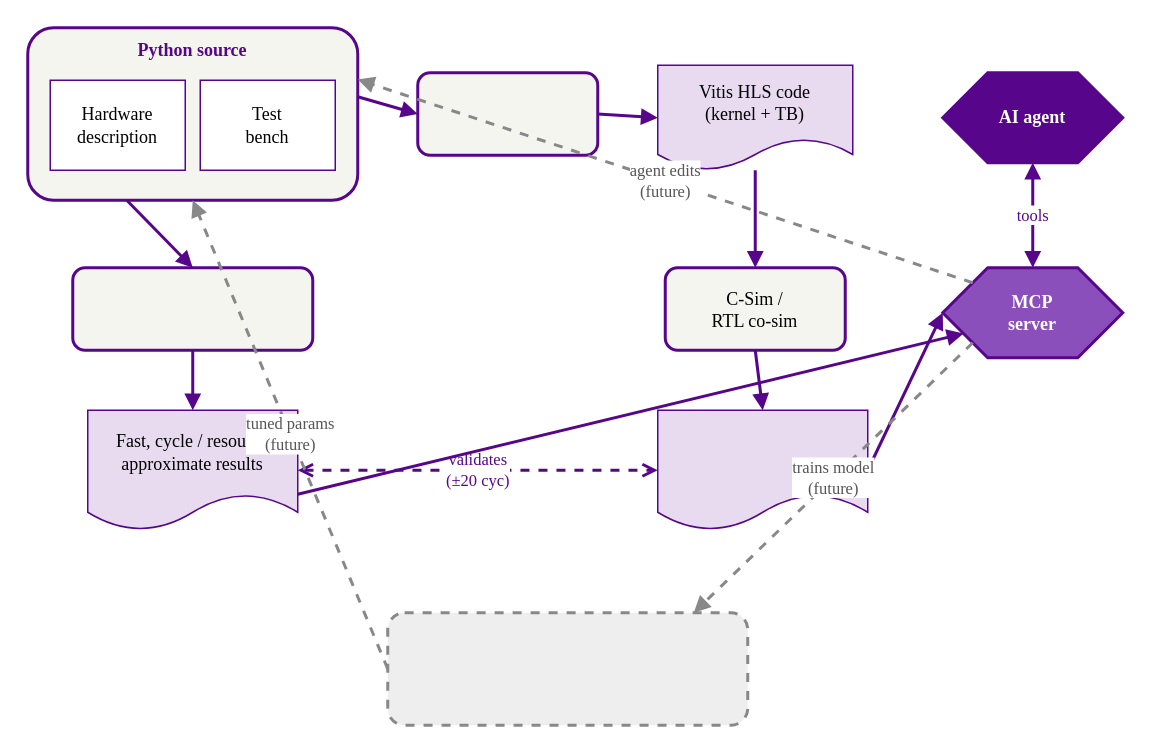
Image size: 1149x752. Some labels were removed from this diagram. The centre of each missing label's shape, as x and y in pixels:
"AI-assisted codegen" goes at (507,113).
"Future: Cycle-model training (fit proc_latency, proc_ii)" goes at (567,668).
"Python simulation (SimPy)" goes at (192,308).
"Slow, cycle / resource exact results" goes at (762,469).
